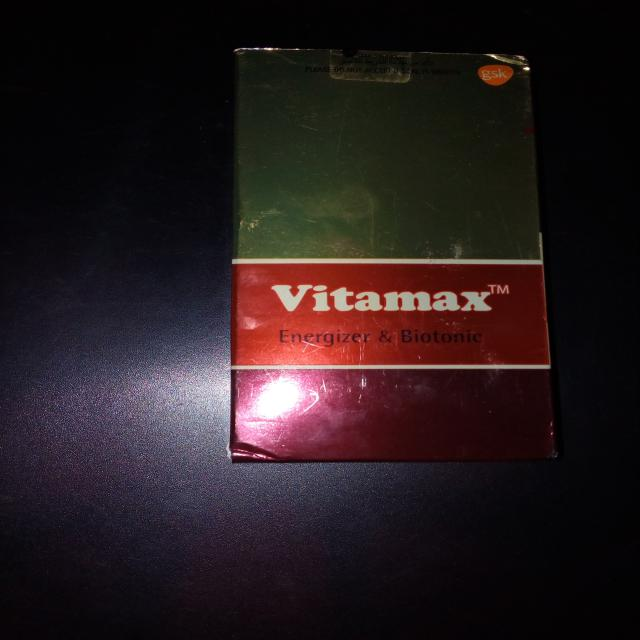Medicine: (229, 44, 556, 467)
